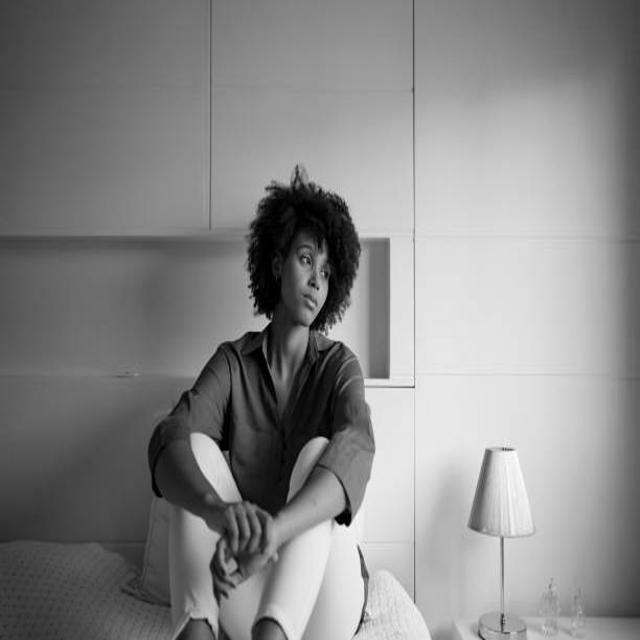Sadness: (279, 232, 330, 328)
